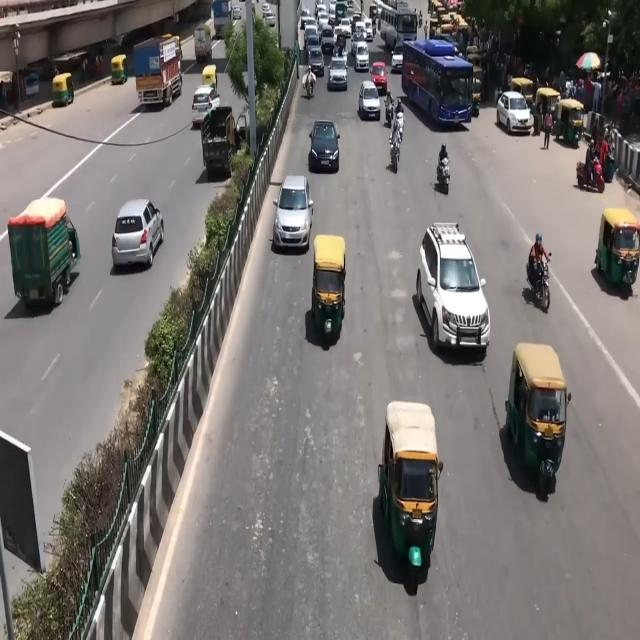auto: (379, 399, 440, 566), (506, 344, 570, 487), (8, 197, 78, 309), (194, 64, 250, 180), (310, 233, 346, 342), (596, 207, 640, 287), (553, 98, 585, 146), (201, 52, 225, 111), (510, 76, 536, 110), (52, 71, 74, 107), (194, 24, 212, 62), (470, 67, 484, 114), (111, 54, 128, 86), (466, 44, 483, 64)
bike-auto: (577, 135, 614, 193), (528, 232, 552, 287), (437, 142, 449, 182), (390, 114, 402, 152), (585, 141, 595, 185), (543, 109, 553, 150), (304, 64, 313, 95), (385, 99, 394, 128), (394, 96, 404, 118), (418, 10, 422, 26)
